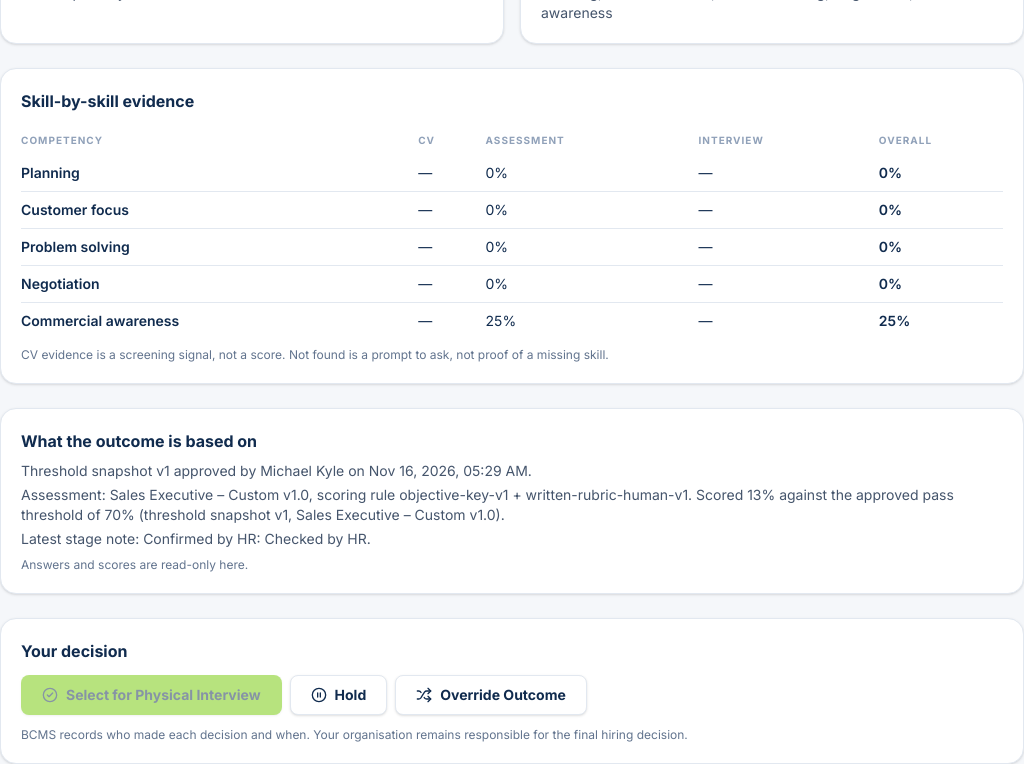
Test case: Hiring Manager screens › requires a reason to override from the report
Later steps or results of the test are not shown.
(page scrolled)
Expected: the button "Select for Physical Interview" is disabled, [21, 675, 282, 715]
Click the button "Override Outcome": (491, 695) [395, 675, 587, 715]
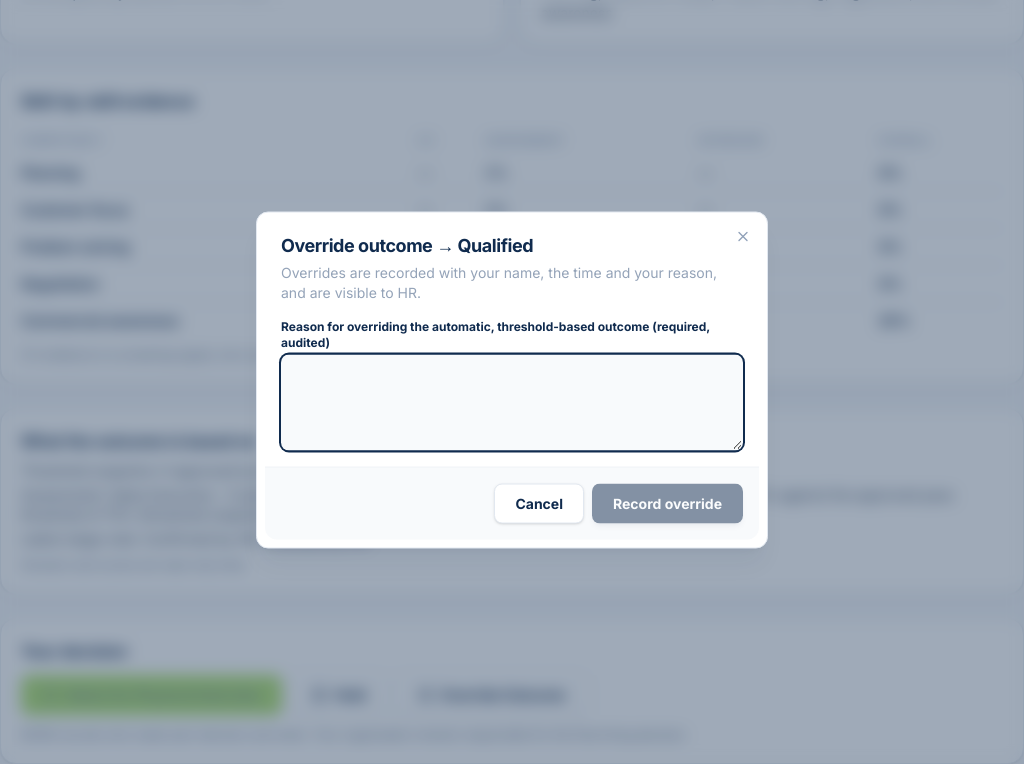
Expected: the button "Record override" is disabled, [592, 484, 743, 524]
